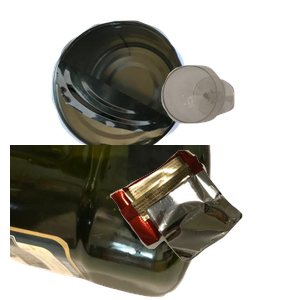glass: (159, 63, 300, 179)
metal: (49, 18, 229, 164)
plastic: (10, 145, 213, 300)
trash: (107, 148, 300, 300)
